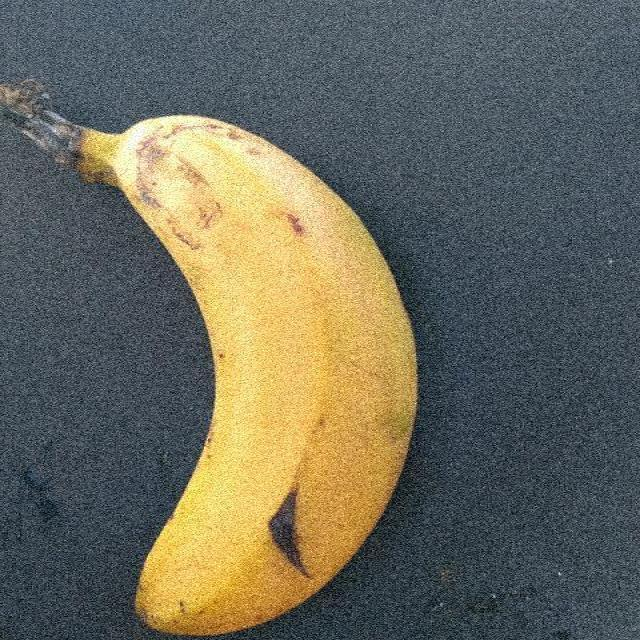Madura: (10, 63, 426, 640)
